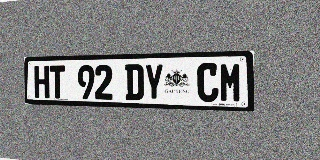2: (95, 65, 112, 100)
9: (78, 65, 95, 99)
C: (197, 63, 219, 102)
D: (125, 64, 144, 100)
H: (34, 66, 49, 98)
M: (219, 62, 242, 103)
T: (50, 65, 65, 99)
Y: (144, 64, 164, 101)
